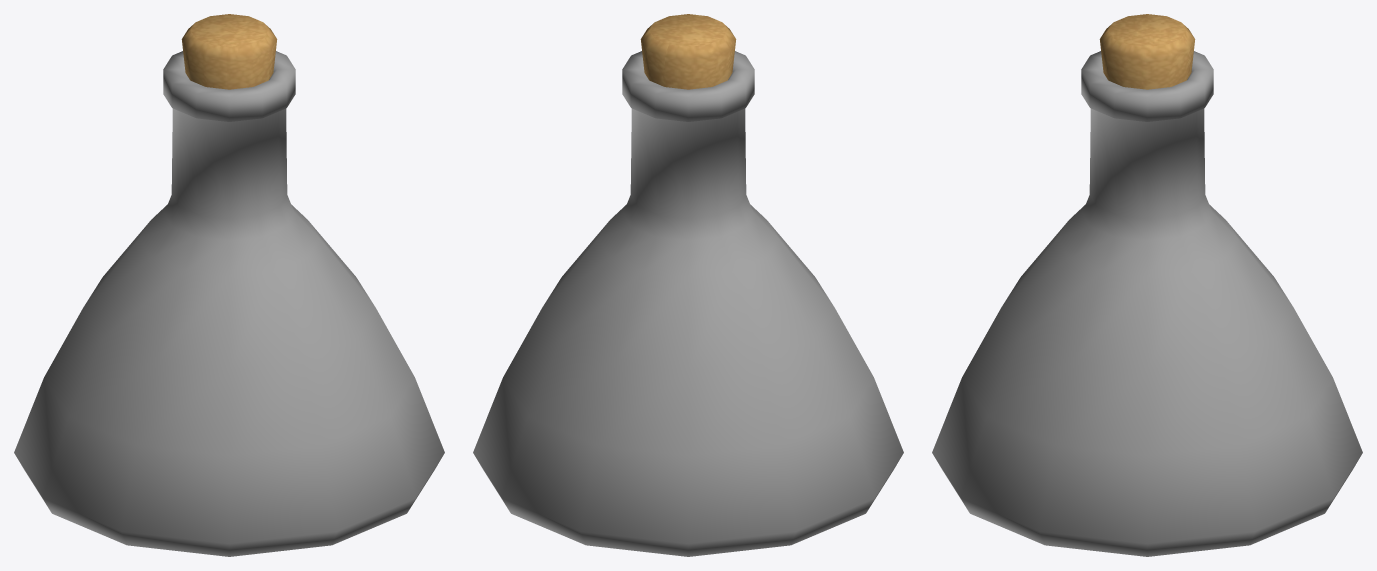
File: marisa_bottle_2.FBX
3 renders of one model, left to right at view 1: azimuth 30°, elevation 25°; view 2: azimuth 150°, elevation 25°; view 3: azimuth 270°, elevation 25°, orthographic.
Parts seen in each view (by area): view 1: potion 2; view 2: potion 2; view 3: potion 2.
Boxes of the visible parts, left/top/right/bottom form: potion 2: left=14, top=14, right=444, bottom=556; potion 2: left=473, top=14, right=903, bottom=556; potion 2: left=932, top=14, right=1362, bottom=556.
Size of the model in its own units: 163 by 183 by 163.
